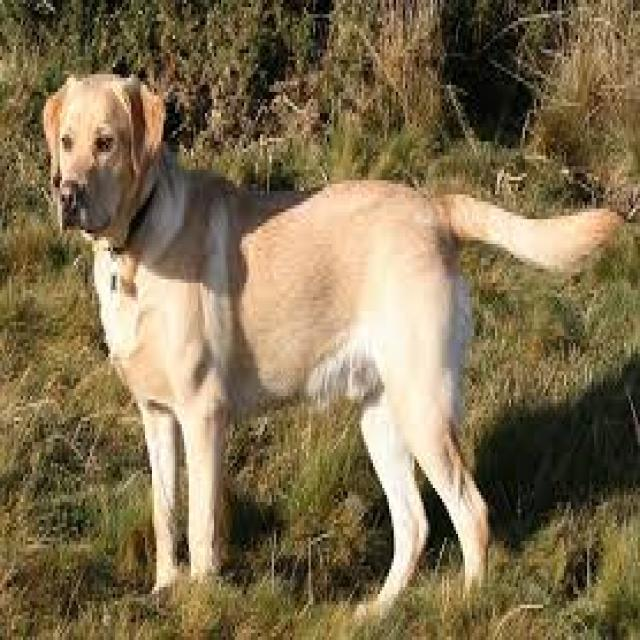Abrador: (45, 78, 625, 614)
